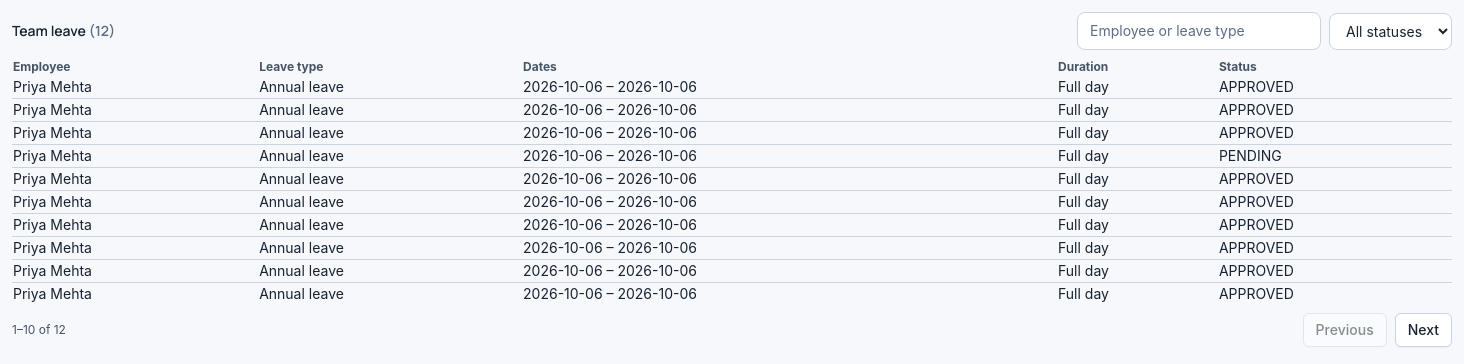
Test: resets pagination when filtering and searches employee and leave type names
Click the button "Next" at coordinates (1423, 330), box [1395,313,1452,347]
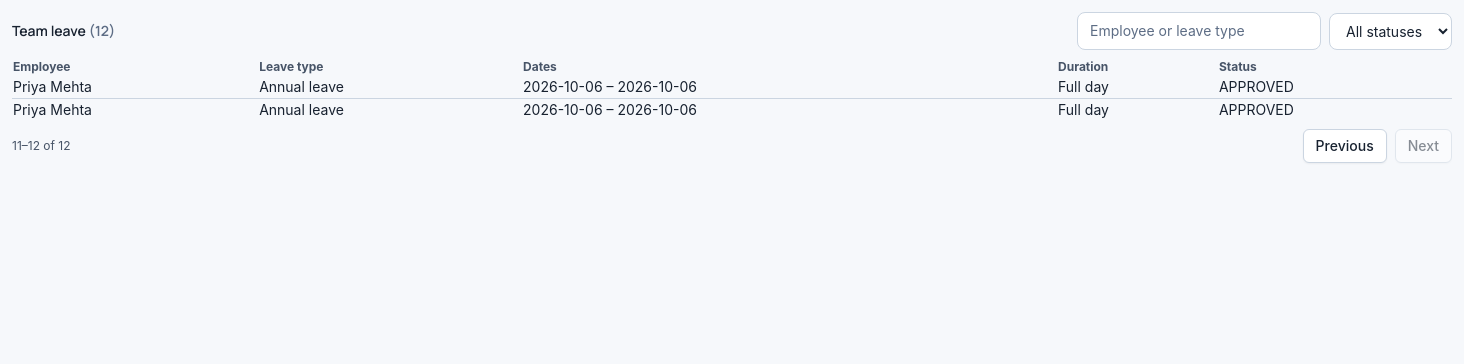
Select "PENDING" in the dropdown named "Leave status" at coordinates (1390, 31), box [1329,12,1452,50]
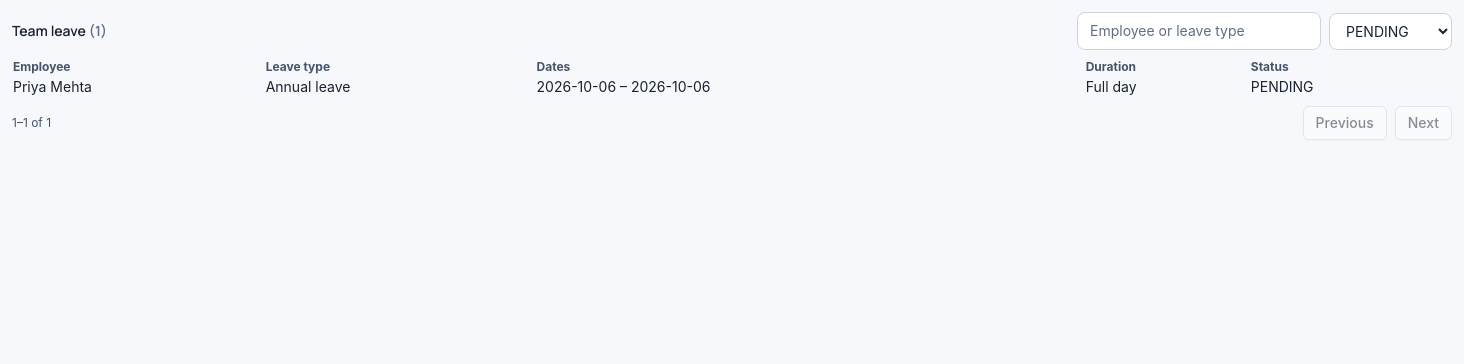
Expected: the text "1–1 of 1" is shown, [12,115,51,131]
Type "unmatched" into the field named "Search team leave" at coordinates (1199, 31), box [1077,12,1321,50]
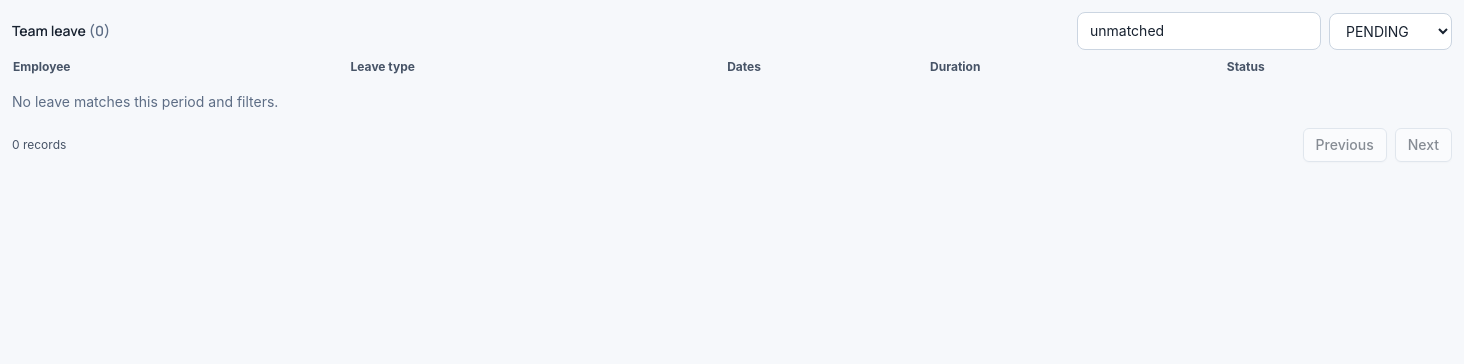
Expected: the text "No leave matches this period and filters." is shown, [12,93,278,110]
Replace the text in the field named "Search team leave" with "Annual" at coordinates (1199, 31), box [1077,12,1321,50]
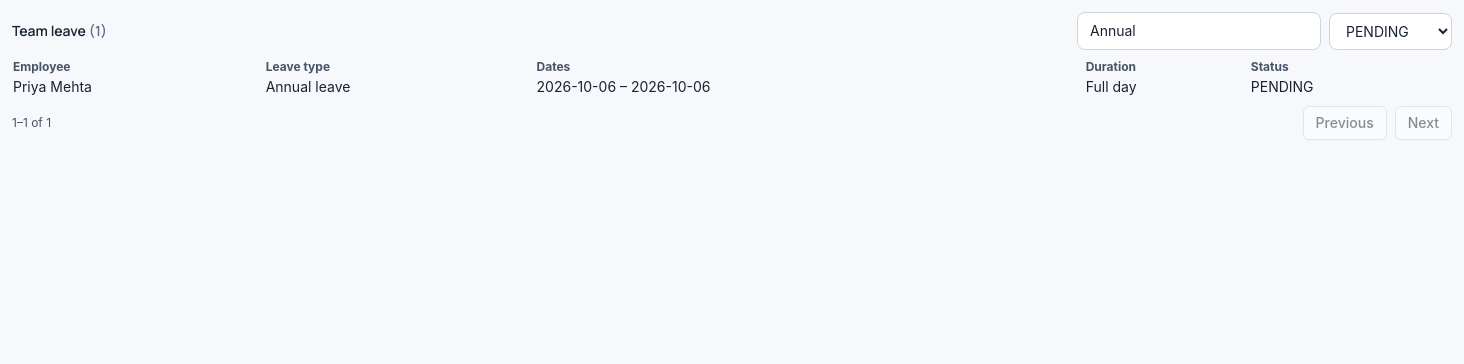
Expected: the text "Priya Mehta" is shown, [12,76,265,98]
